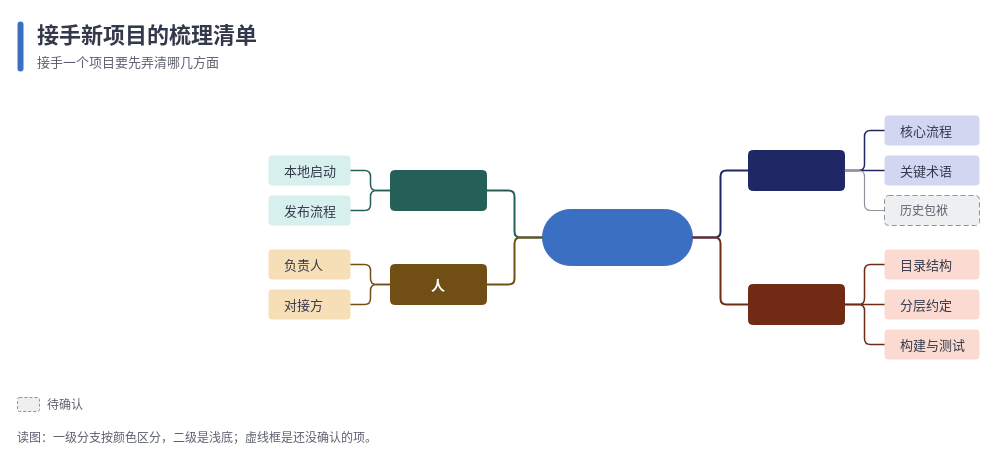
Image size: 997x464. Some labels were removed from this diagram. Here are the shapes that lost their labels. From the top down, the box of each, then its label:
(390, 170, 486, 210): 环境
(748, 150, 844, 190): 业务
(542, 208, 692, 266): 接手新项目
(748, 284, 844, 324): 代码
